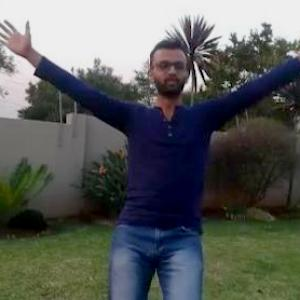takeoff: (0, 27, 299, 299)
